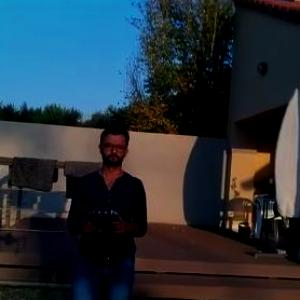follow: (64, 120, 152, 299)
